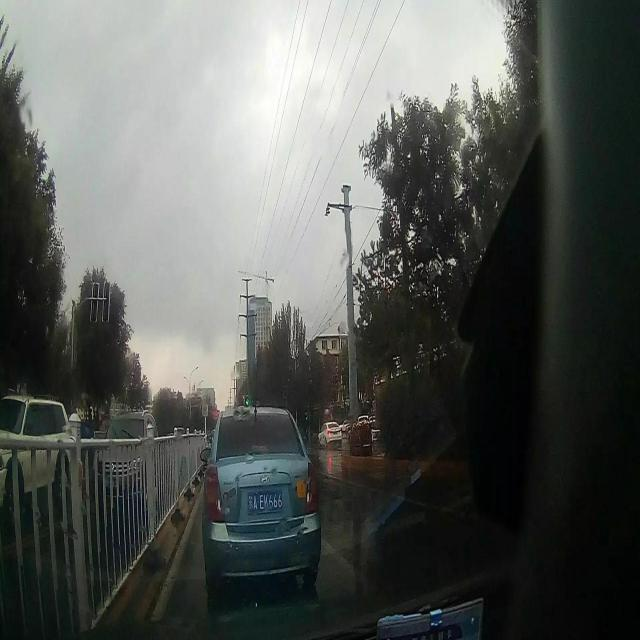car: (200, 402, 322, 588), (0, 391, 79, 508), (95, 410, 162, 498), (317, 419, 344, 449)
